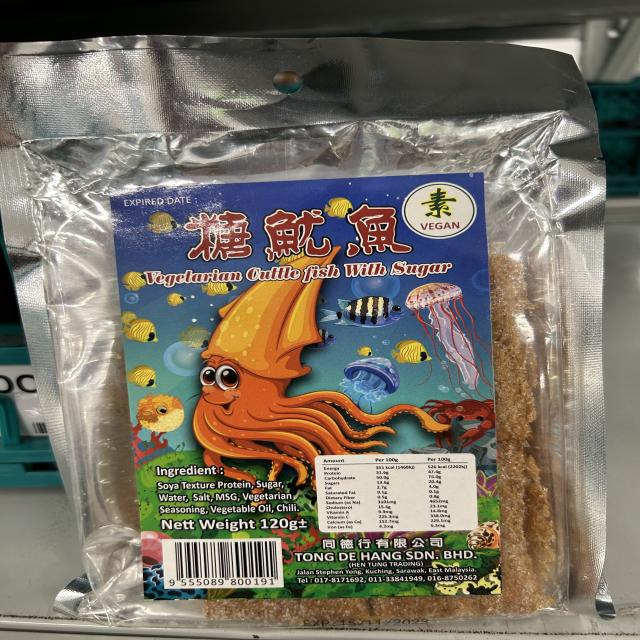object_name: (7, 46, 606, 621)
